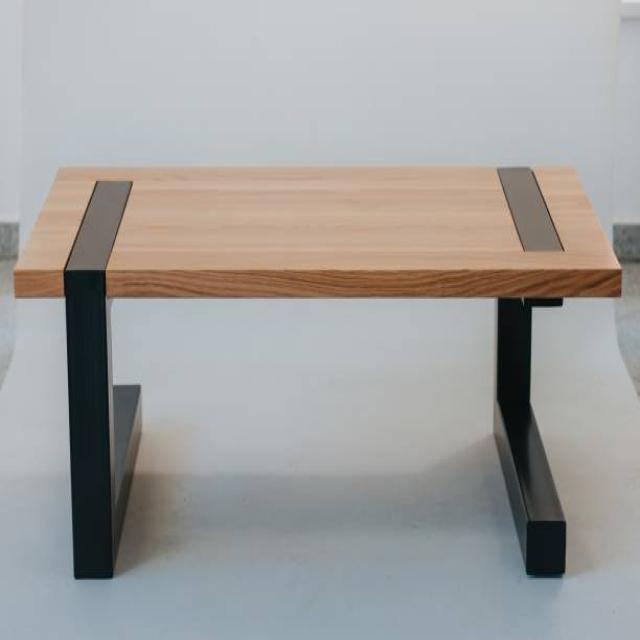table: (12, 163, 622, 581)
